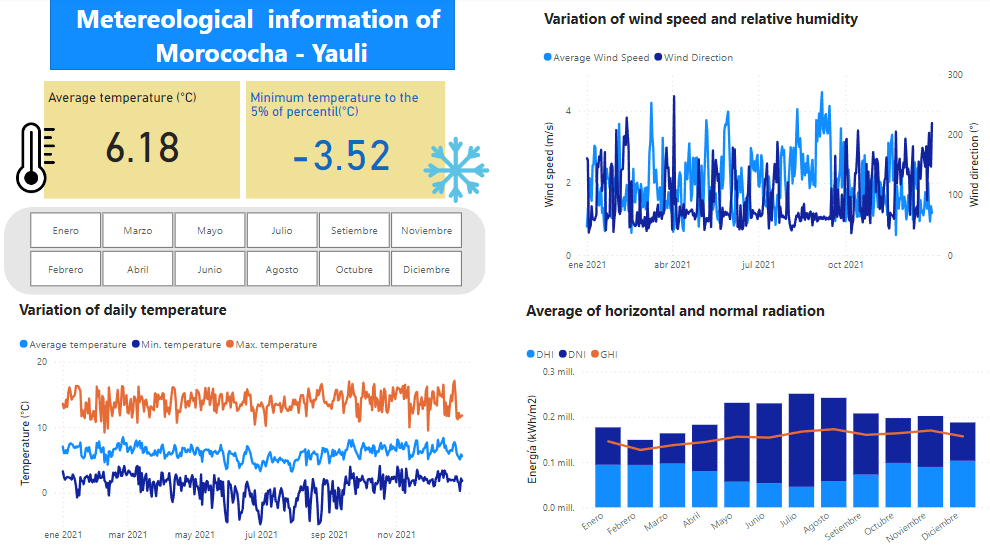

What the dashboard file says about the page in this screenshot:
{"tool":"powerbi","page":{"name":"Página 1","canvas":[1280,720],"ordinal":0},"visuals":[{"type":"lineChart","fields":{"Category":["solar_hourly (2).Fecha.Variación.Jerarquía de fechas.Año","solar_hourly (2).Fecha.Variación.Jerarquía de fechas.Trimestre","solar_hourly (2).Fecha.Variación.Jerarquía de fechas.Mes","solar_hourly (2).Fecha.Variación.Jerarquía de fechas.Día"],"Y":["Sum(solar_hourly (2).DHI)","Sum(solar_hourly (2).DNI)"]},"box":[0,42.2,663.3,284.4],"z":0},{"type":"lineChart","fields":{"Category":["solar_hourly (2).Fecha.Variación.Jerarquía de fechas.Año","solar_hourly (2).Fecha.Variación.Jerarquía de fechas.Trimestre","solar_hourly (2).Fecha.Variación.Jerarquía de fechas.Mes","solar_hourly (2).Fecha.Variación.Jerarquía de fechas.Día"],"Y":["Avg(solar_hourly (2).Temperature)","Min(solar_hourly (2).Temperature)1","Max(solar_hourly (2).Temperature)2"]},"box":[0,398.3,640,310],"z":1000},{"type":"textbox","box":[0,4.4,516.7,37.8],"z":2000},{"type":"textbox","box":[0,360,517,38],"z":3000},{"type":"lineChart","fields":{"Category":["solar_hourly (2).Fecha.Variación.Jerarquía de fechas.Año","solar_hourly (2).Fecha.Variación.Jerarquía de fechas.Trimestre","solar_hourly (2).Fecha.Variación.Jerarquía de fechas.Mes","solar_hourly (2).Fecha.Variación.Jerarquía de fechas.Día"],"Y":["Avg(solar_hourly (2).Wind Speed)"],"Y2":["Avg(solar_hourly (2).Relative Humidity)"]},"box":[663.8,108.8,616.1,309.3],"z":4000},{"type":"textbox","box":[663.8,42.5,517.5,37.5],"z":5000},{"type":"card","fields":{"Values":["Avg(solar_hourly (2).Temperature)"]},"box":[647,452,412,118],"z":6000}]}

Visuals, with their boxes in screenshot pixels (x1, y1, x2, y2), scaled from the page's 1280x720 canvas onto the 990x552 screenshot:
lineChart - solar_hourly (2).Fecha.Variación.Jerarquía de fechas.Año x solar_hourly (2).Fecha.Variación.Jerarquía de fechas.Trimestre: <box>0,32,513,250</box>
lineChart - solar_hourly (2).Fecha.Variación.Jerarquía de fechas.Año x solar_hourly (2).Fecha.Variación.Jerarquía de fechas.Trimestre: <box>0,305,495,543</box>
textbox: <box>0,3,400,32</box>
textbox: <box>0,276,400,305</box>
lineChart - solar_hourly (2).Fecha.Variación.Jerarquía de fechas.Año x solar_hourly (2).Fecha.Variación.Jerarquía de fechas.Trimestre: <box>513,83,989,321</box>
textbox: <box>513,33,914,61</box>
card - Avg(solar_hourly (2).Temperature): <box>500,347,819,437</box>
